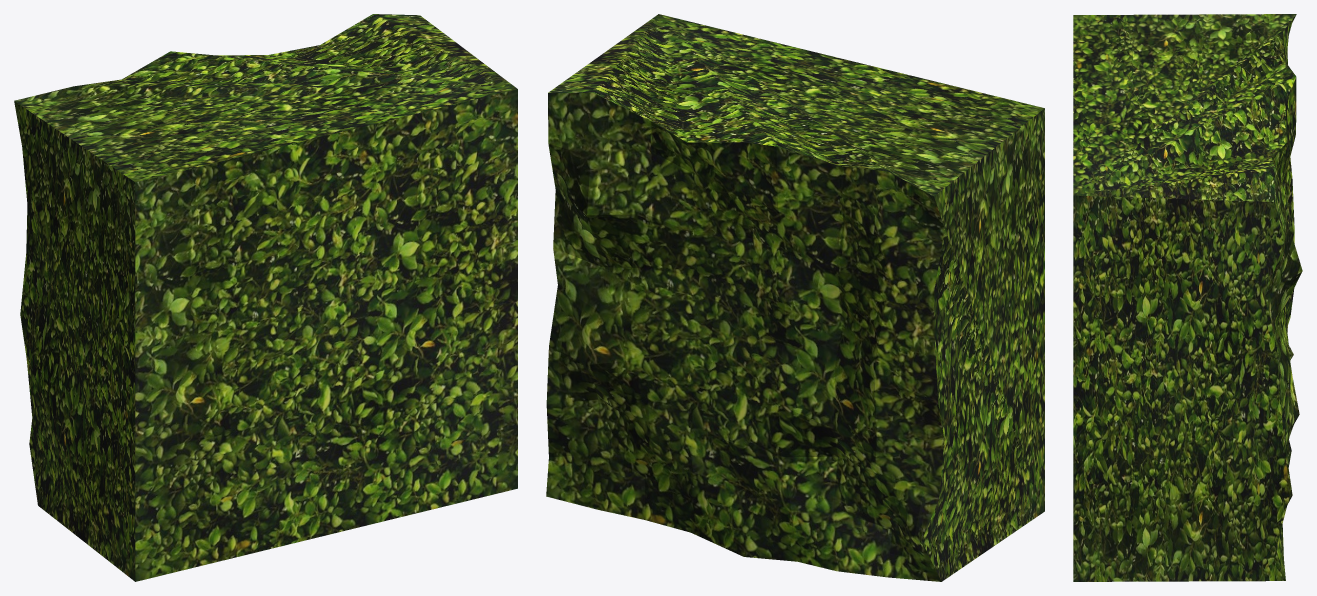
The model's file is bush.obj.
The picture shows the model from 3 angles, left to right: view 1: azimuth 30°, elevation 25°; view 2: azimuth 150°, elevation 25°; view 3: azimuth 270°, elevation 25°; orthographic projection. The views are drawn at different scales.
Visible parts, largest first — view 1: Cube; view 2: Cube; view 3: Cube.
Boxes of the visible parts, x1,y1,x2,y2 form: Cube: (14,14,517,581); Cube: (546,14,1044,581); Cube: (1073,14,1302,581).
Bounding box in the file's own units: 2.07 × 2.08 × 1.08.
1 material, 1 textured.
